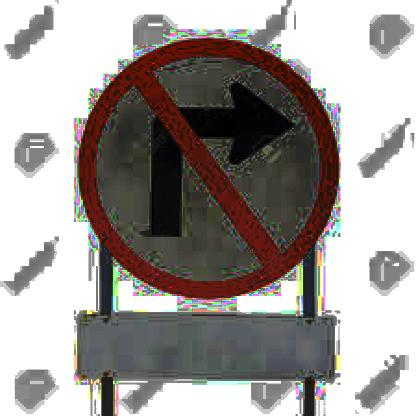No right turn: (72, 38, 340, 294)
